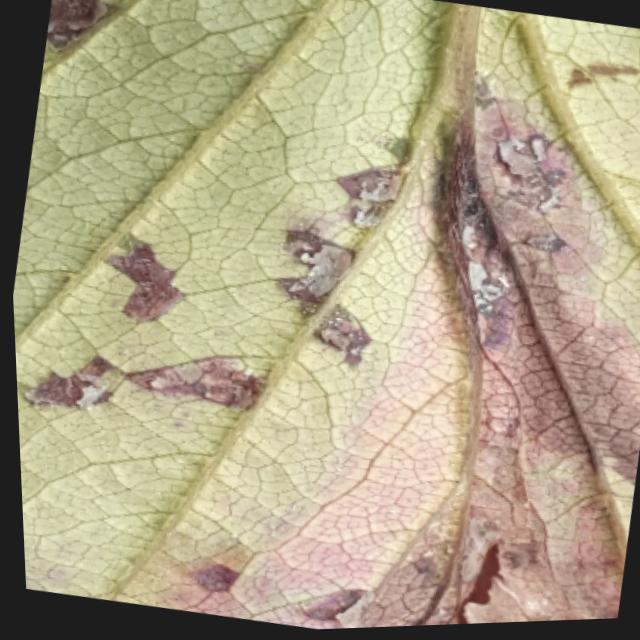Angular Leafspot: (10, 0, 640, 632)
